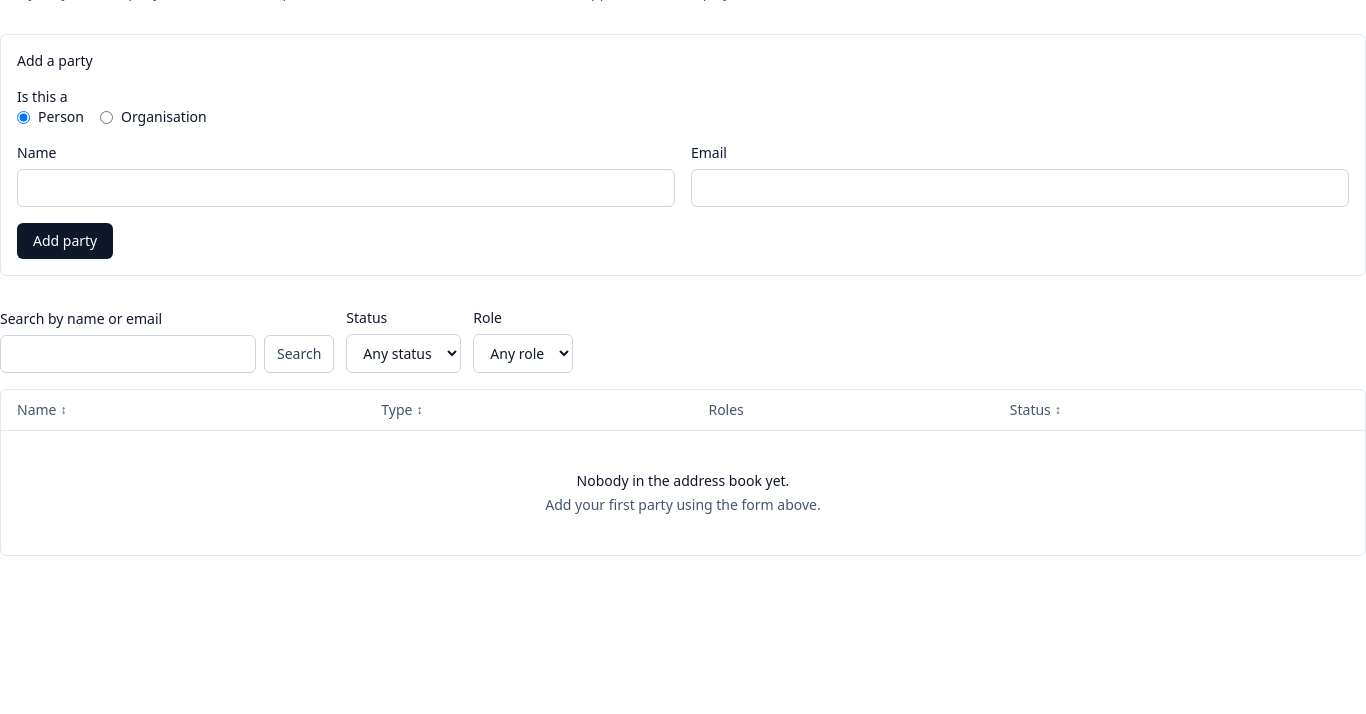
Test: PartiesPage › adding a party › creates a person and refreshes the list
Expected: the text "Nobody in the address book yet." is shown, [577,471,789,490]
Type "Ada Okafor" into the field labelled "Name" at (346, 188), box [17,169,675,207]
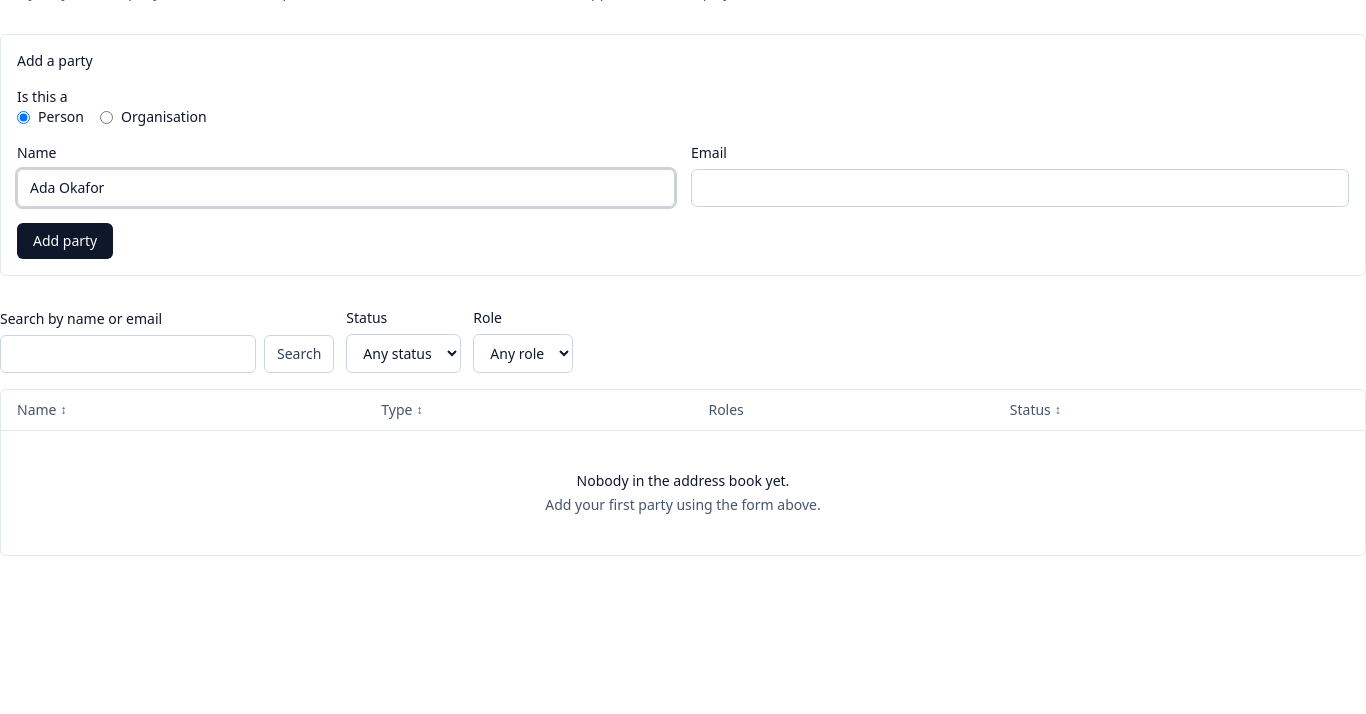
Type "ada@example.test" into the field labelled "Email" at (1020, 188), box [691,169,1349,207]
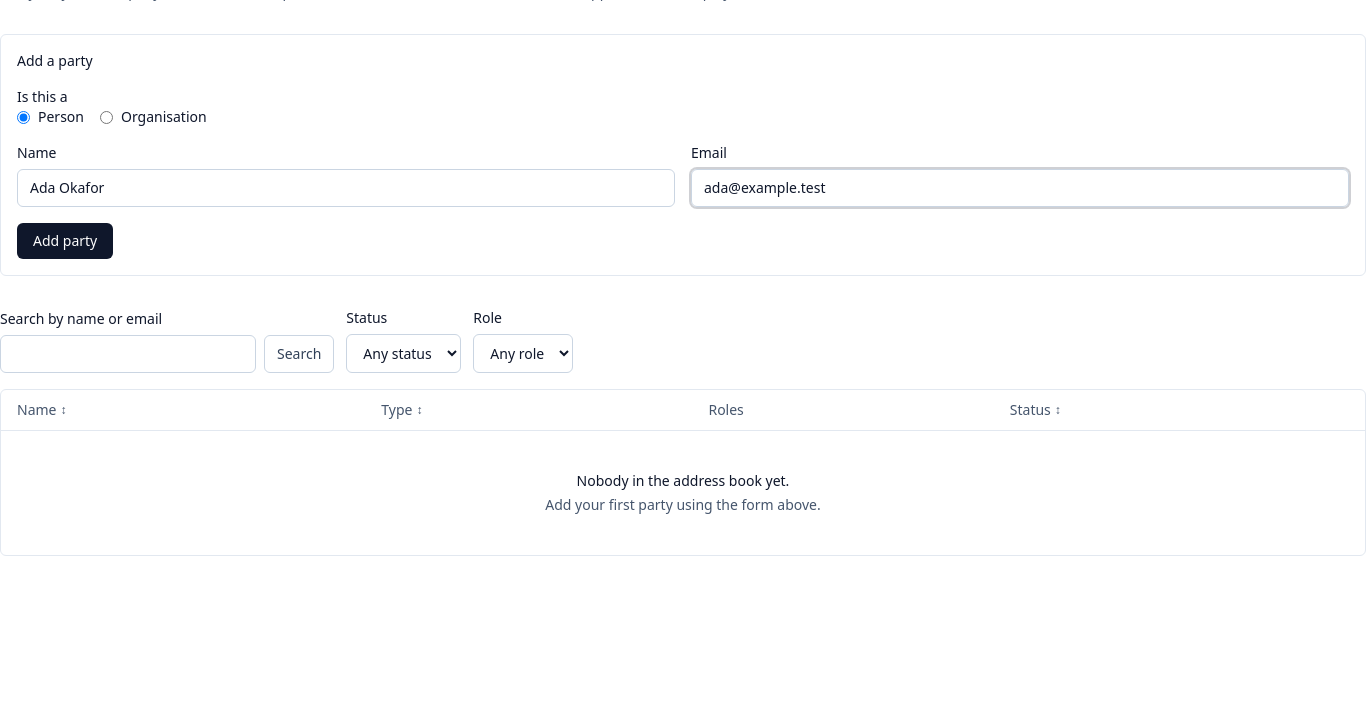
Click the button "Add party" at (65, 241), box [17,223,113,259]
(page scrolled)
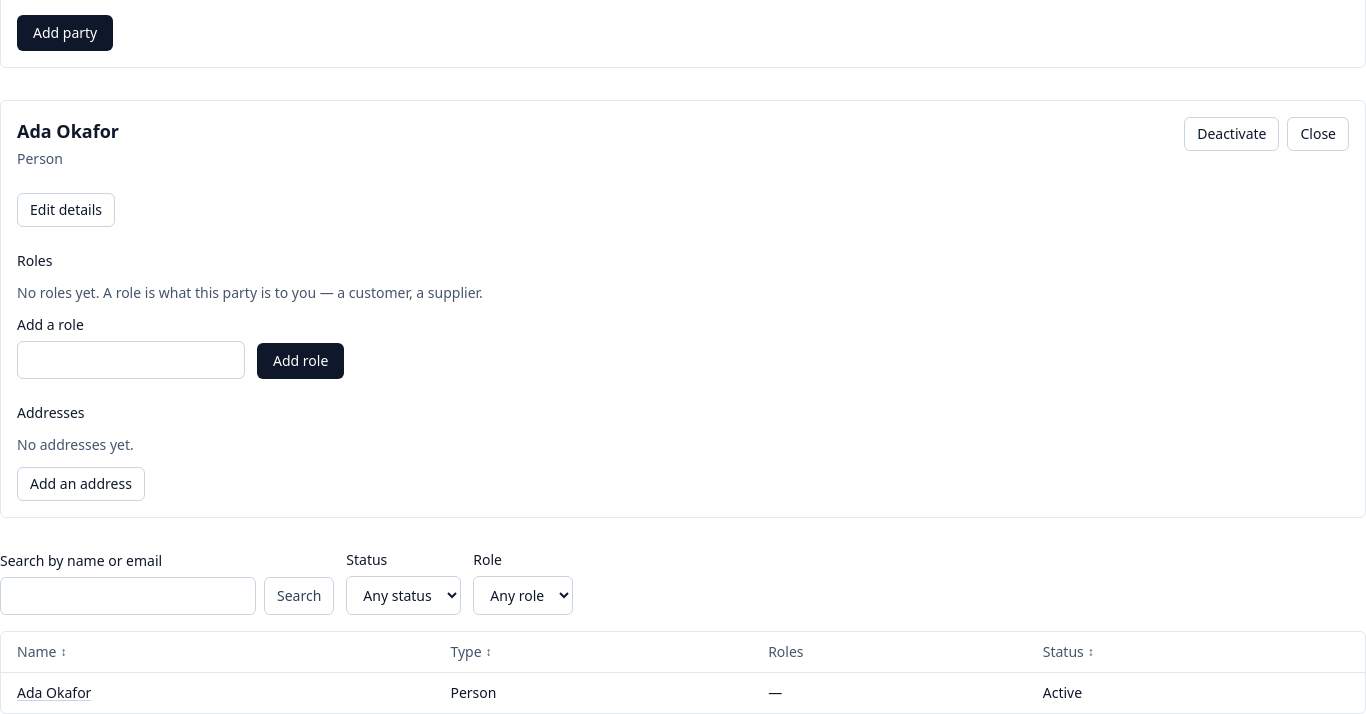
Now the cell "Ada Okafor" is shown, box [1,673,434,713]
